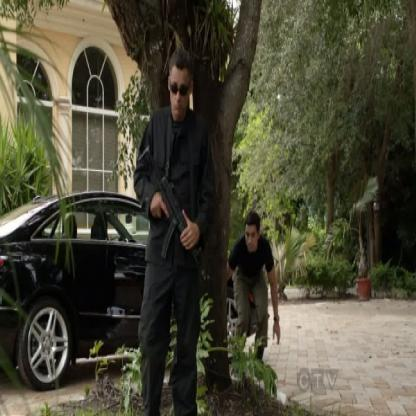Gun: (135, 139, 202, 270)
